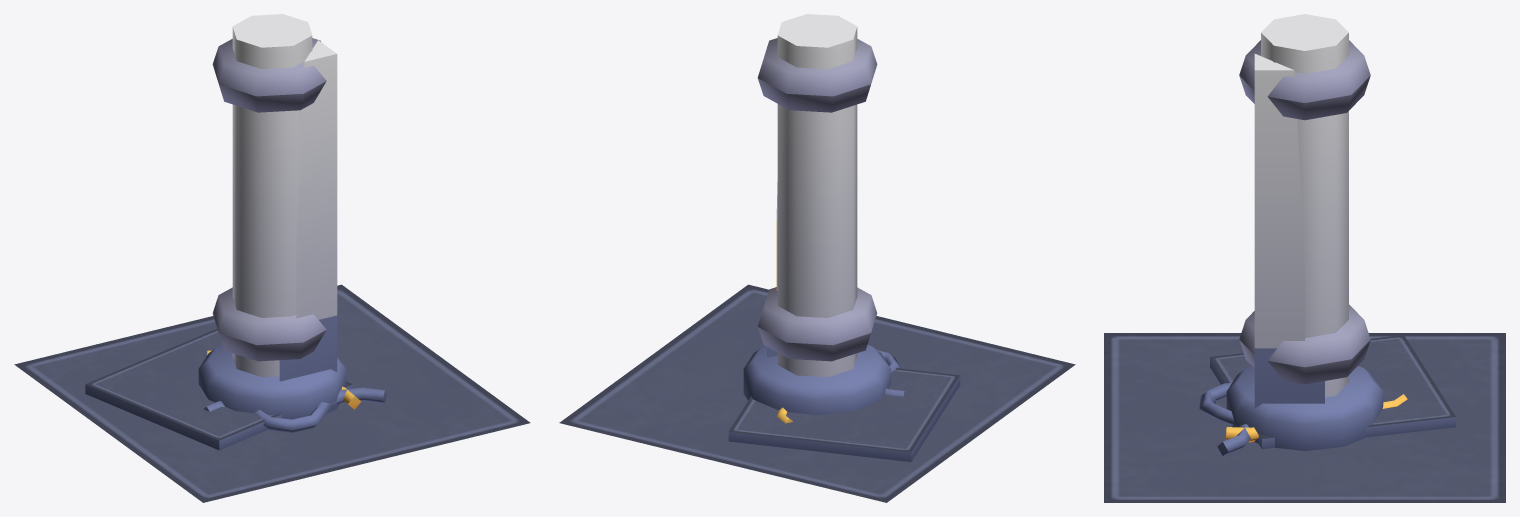
Rendered from KenneyModularSpace.glb.
3 views of the same model, side by side, from view 1: azimuth 30°, elevation 25°; view 2: azimuth 150°, elevation 25°; view 3: azimuth 270°, elevation 25° (orthographic). The views are drawn at different scales.
Visible parts, largest first — view 1: template-floor, template-detail, template-wall-corner, template-floor-detail, cables; view 2: template-detail, template-floor, template-floor-detail; view 3: template-floor, template-detail, template-wall-corner, template-floor-detail, cables.
Boxes of the visible parts, bbox=[...] form: template-floor: bbox=[14, 284, 530, 502]; template-detail: bbox=[198, 14, 346, 419]; template-wall-corner: bbox=[279, 40, 337, 381]; template-floor-detail: bbox=[85, 329, 352, 450]; cables: bbox=[203, 350, 386, 433]; template-detail: bbox=[743, 14, 891, 415]; template-floor: bbox=[559, 284, 1075, 502]; template-floor-detail: bbox=[728, 368, 960, 461]; template-floor: bbox=[1104, 333, 1505, 502]; template-detail: bbox=[1226, 14, 1383, 450]; template-wall-corner: bbox=[1254, 54, 1324, 408]; template-floor-detail: bbox=[1210, 335, 1455, 449]; cables: bbox=[1199, 383, 1407, 455].
Size of the model in its own units: 4 by 4.23 by 4.
1 material, 1 textured.
